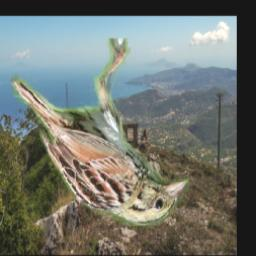Sparrow: (11, 39, 189, 227)
